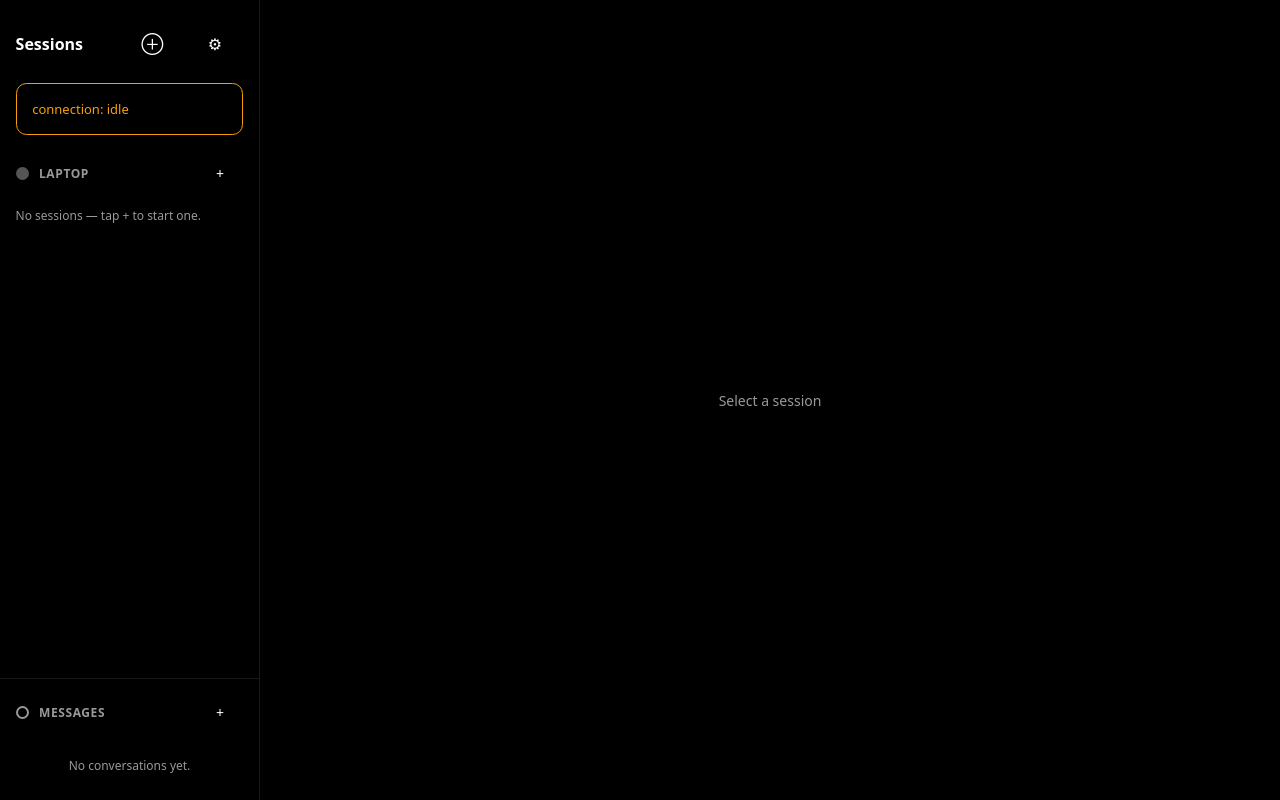
Test: App shell › gear opens Settings on a ScreenOverlay, ✕ closes it (Phase 2b)
This screenshot has width=1280, height=800.
What coordinates should you click on to do the following:
click the button named "Settings"
I would click on:
 (215, 44)
Its box is [186,16,243,73].
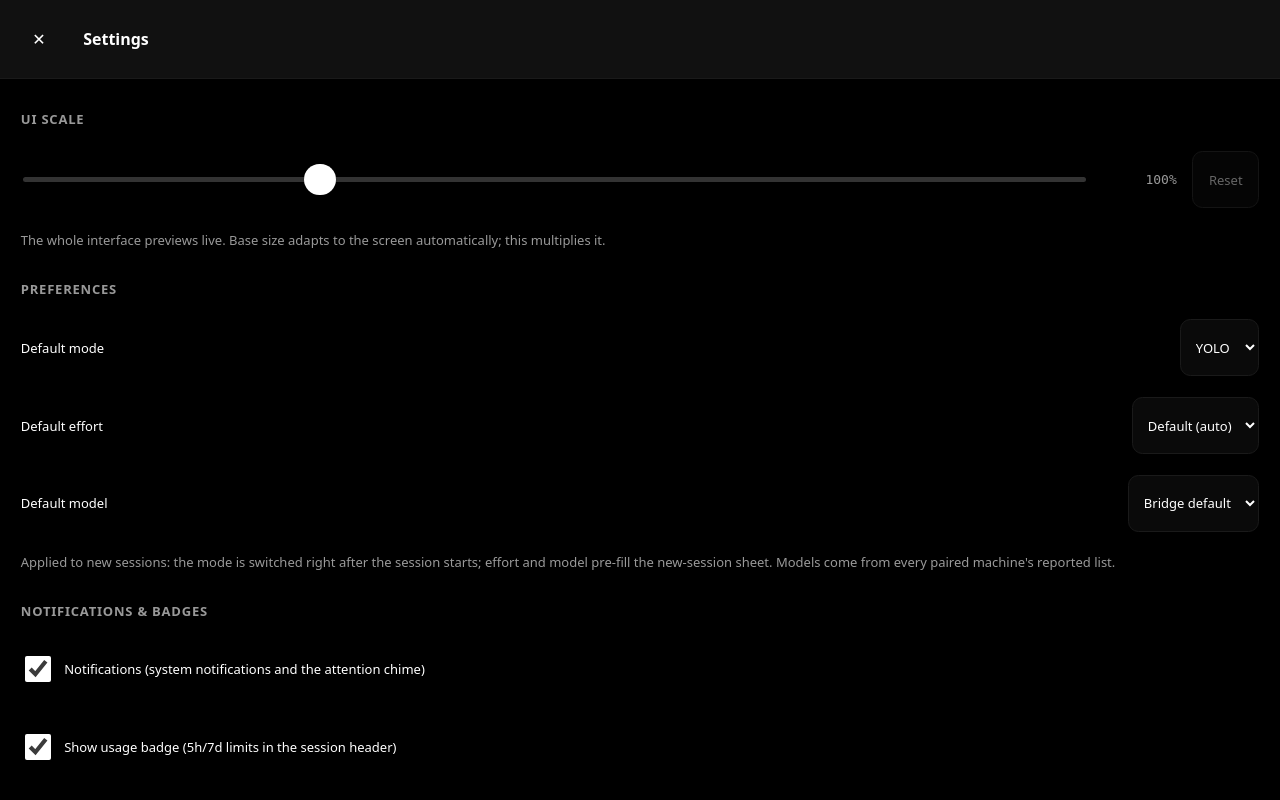
expect the element with test id "screen-overlay" is shown: met
expect the heading "Settings" is shown: met, box [83,28,149,50]
expect the slider named "UI scale" is shown: met, box [23,151,1086,208]
What coordinates should you click on to do the following:
click the button named "Close"
I would click on:
 (39, 39)
Its box is [10,10,68,68].
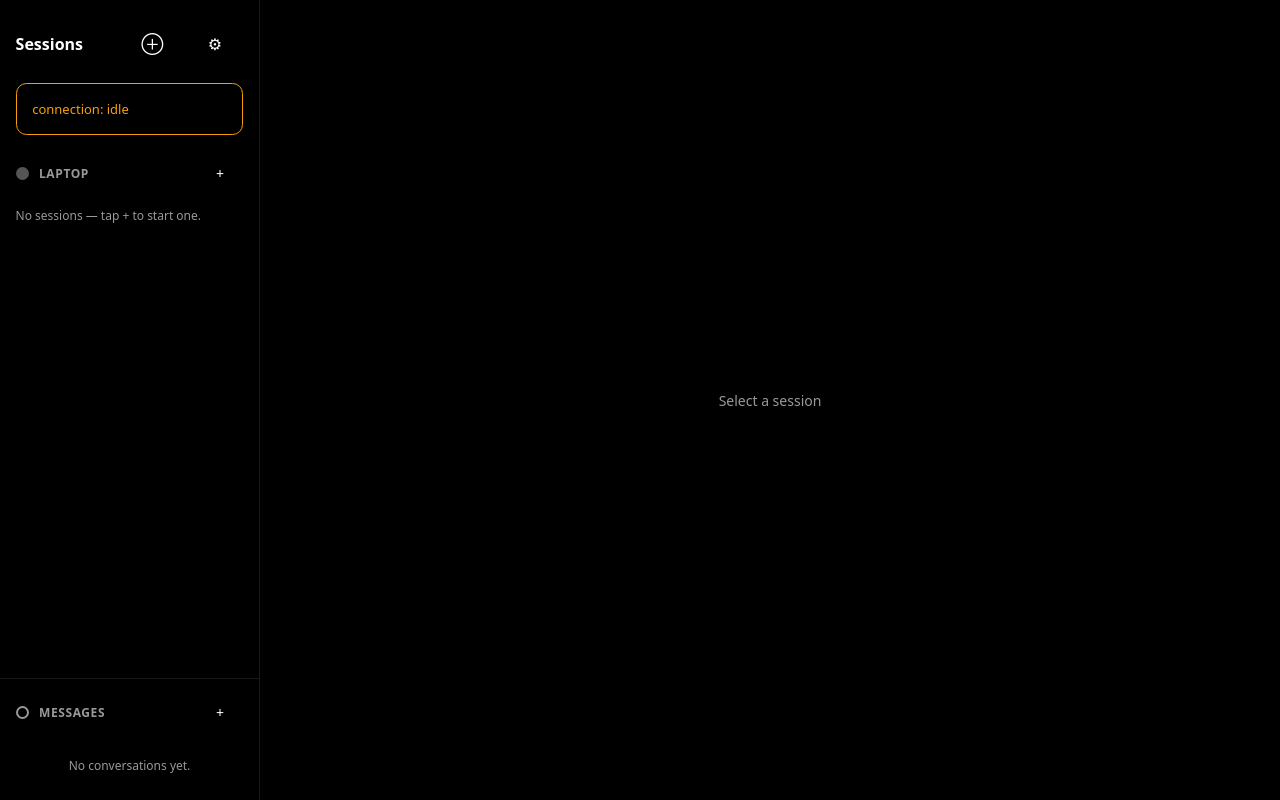
expect the heading "Settings" is gone: met
